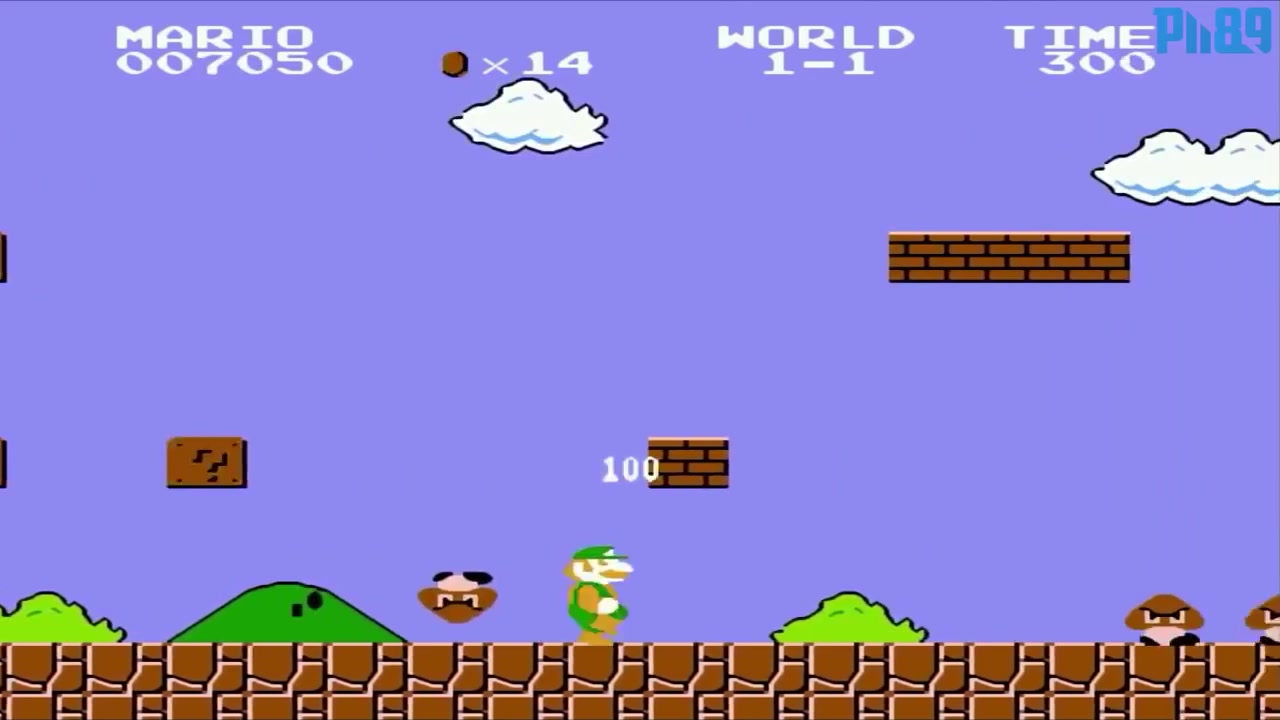mario: (562, 530, 633, 643)
